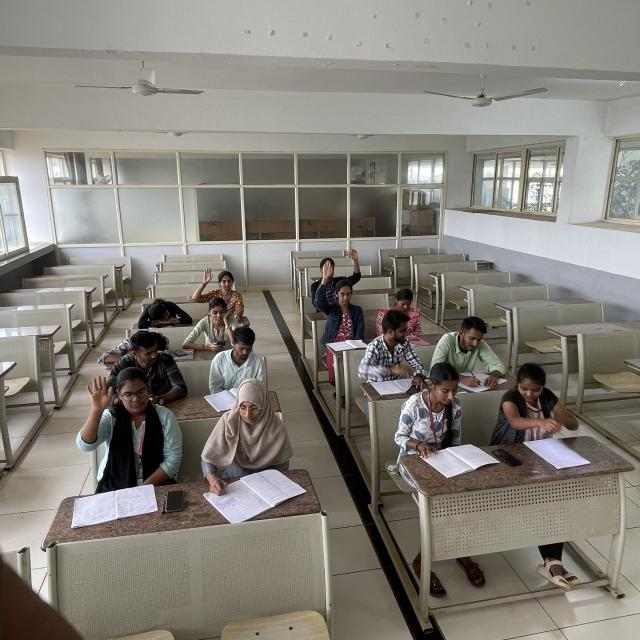Hand Rising: (75, 368, 178, 484), (316, 259, 368, 339), (194, 264, 246, 312), (316, 248, 363, 300)
Reading: (403, 366, 482, 471), (206, 328, 268, 404)
Sleeping: (133, 296, 192, 330)
Using Phone: (111, 328, 186, 401), (189, 296, 239, 353)
Writing: (195, 381, 292, 505), (440, 313, 514, 387)
